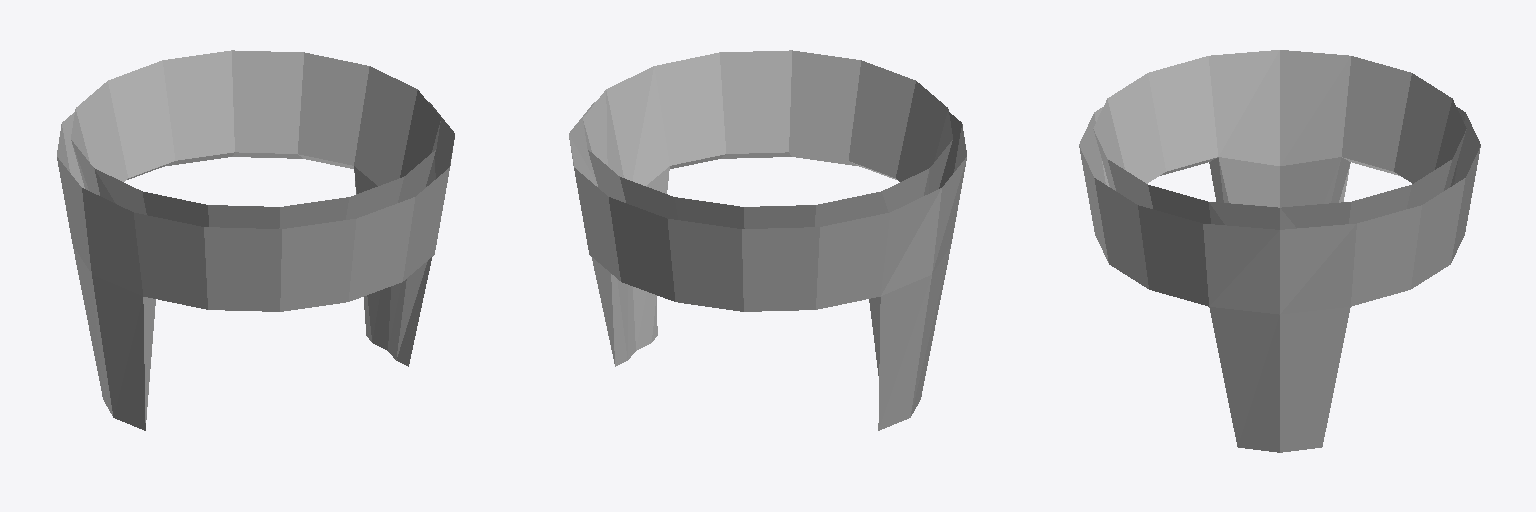
Rendered from drone03_inner.obj.
3 renders of one model, left to right at view 1: azimuth 30°, elevation 25°; view 2: azimuth 150°, elevation 25°; view 3: azimuth 270°, elevation 25°, orthographic.
Size of the model in its own units: 1.48 by 1.03 by 1.48.